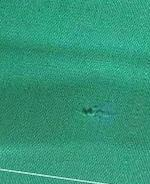knot: (77, 101, 105, 120)
